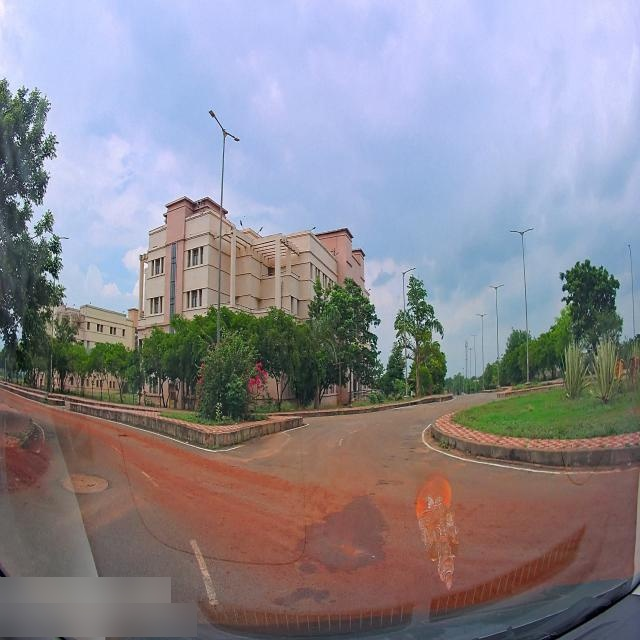pothole: (58, 466, 120, 501), (337, 539, 369, 560), (410, 427, 418, 432), (390, 454, 395, 459), (410, 446, 416, 450), (406, 438, 412, 441), (384, 463, 388, 467), (403, 458, 410, 460), (403, 441, 407, 444), (400, 448, 406, 450)
